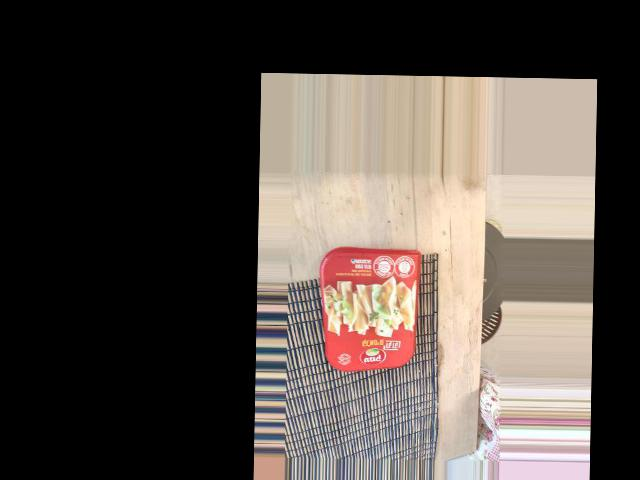cheese: (276, 329, 411, 418)
